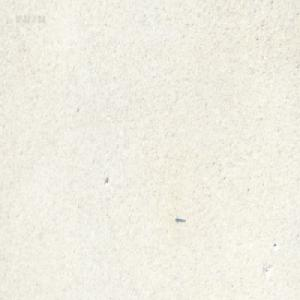Nail: (175, 215, 185, 223)
